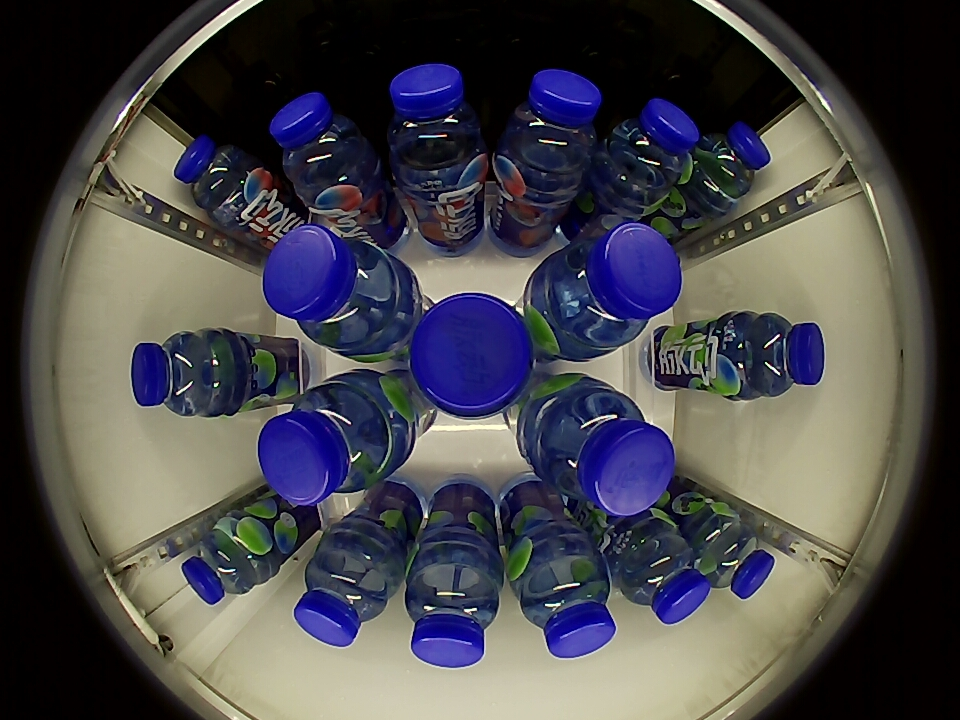maidong: (539, 221, 684, 355), (262, 225, 409, 353), (536, 383, 676, 517), (257, 377, 397, 507), (407, 292, 536, 417), (515, 535, 617, 660), (405, 539, 501, 669), (385, 62, 487, 184), (496, 68, 603, 184), (268, 91, 375, 200), (293, 536, 395, 648), (614, 519, 712, 626), (601, 98, 701, 197), (130, 329, 232, 417), (733, 312, 826, 399), (181, 517, 270, 606), (173, 135, 262, 220), (693, 509, 775, 599), (691, 121, 771, 206)
